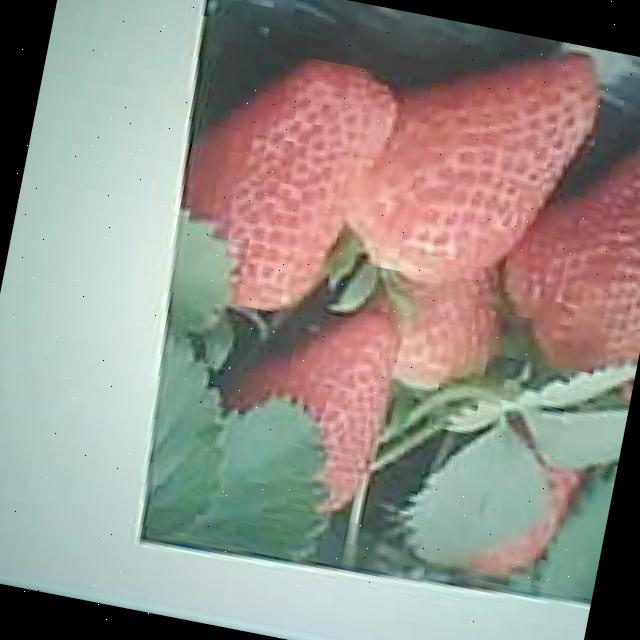strawberry: (344, 16, 602, 300), (165, 42, 402, 328), (492, 107, 640, 384)
